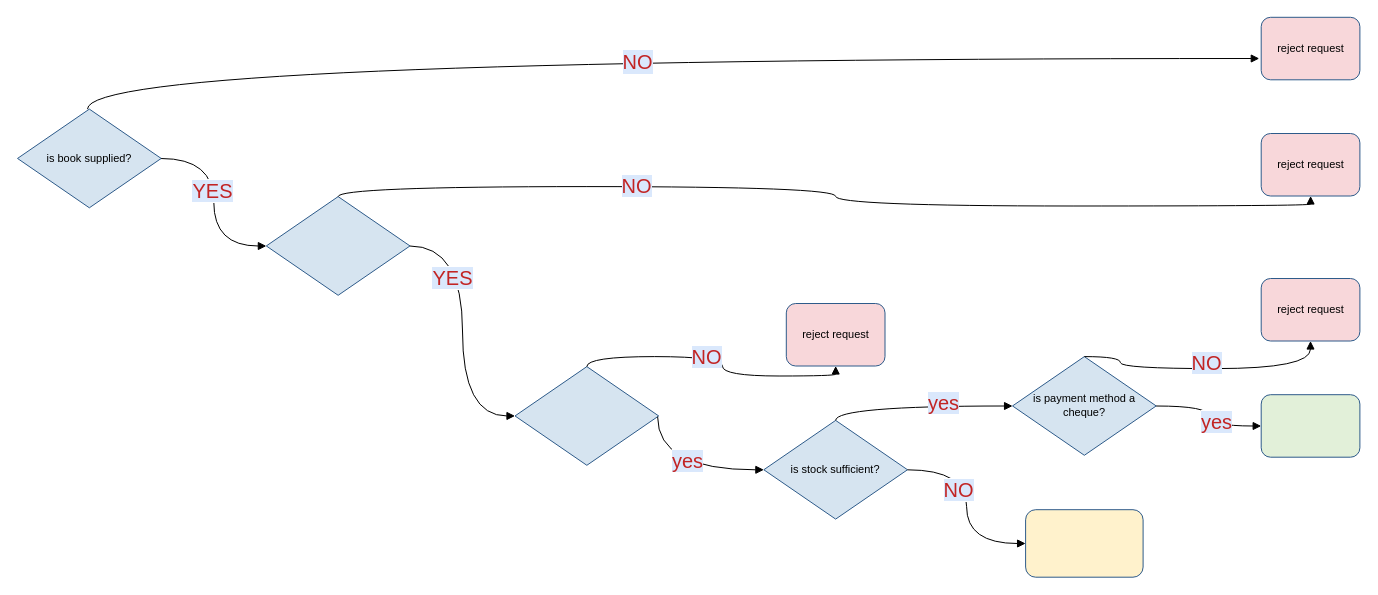
This 1378x595 diagram has some shape labels left out. The shapes that lost their labels are listed below. From the top down, each one's box as (x1, y1, x2, y2) in pixels, then its label:
(265, 196, 410, 295): is pricing correct?
(514, 366, 659, 465): is customer authorized?
(1260, 394, 1360, 457): accept request
(1025, 509, 1143, 577): raise requisition
